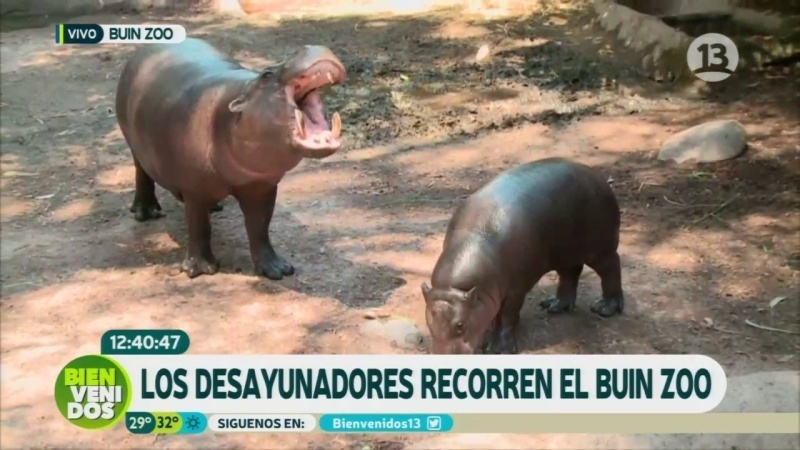hipopotamo: (102, 24, 363, 299), (394, 142, 630, 363)
